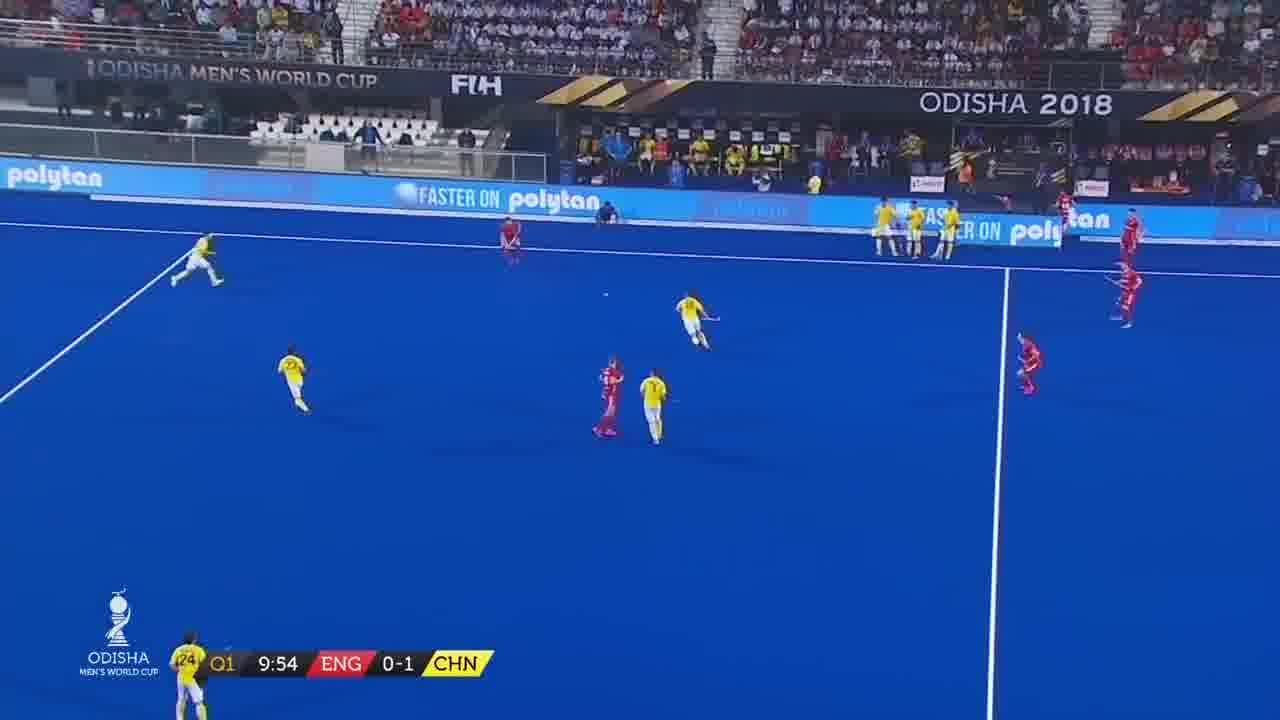ball: (602, 289, 610, 303)
